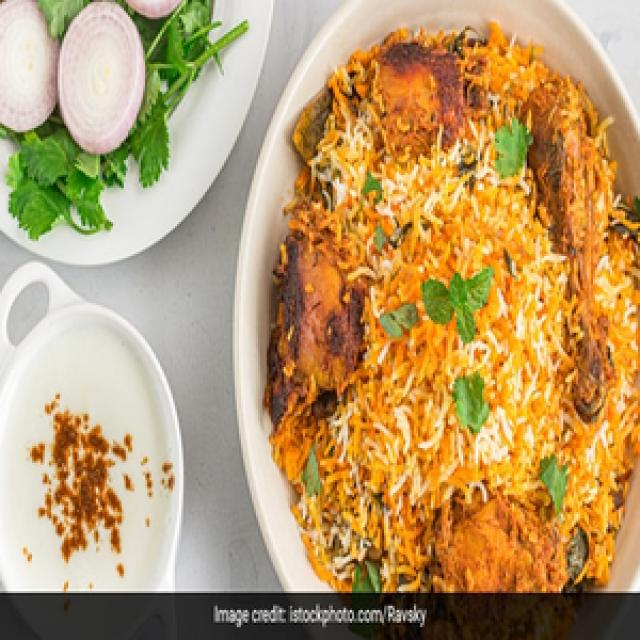chicken biriyani: (258, 15, 640, 593)
